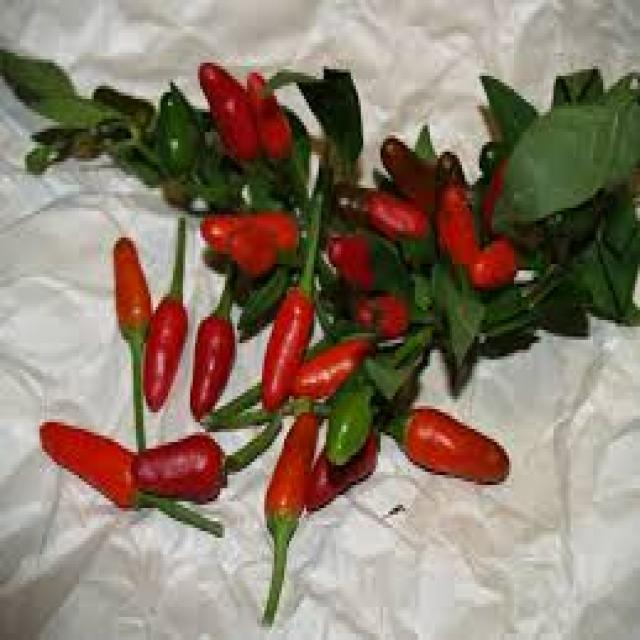hot pepper: (34, 404, 160, 518), (203, 61, 321, 178), (391, 401, 517, 494), (263, 406, 330, 556), (384, 125, 472, 233), (125, 434, 238, 518), (200, 193, 294, 292), (281, 324, 377, 417), (248, 272, 306, 421), (303, 421, 389, 517), (327, 230, 402, 337), (186, 296, 242, 436), (111, 228, 160, 352), (138, 284, 182, 412), (426, 178, 480, 277), (460, 233, 520, 321), (360, 184, 434, 251)
